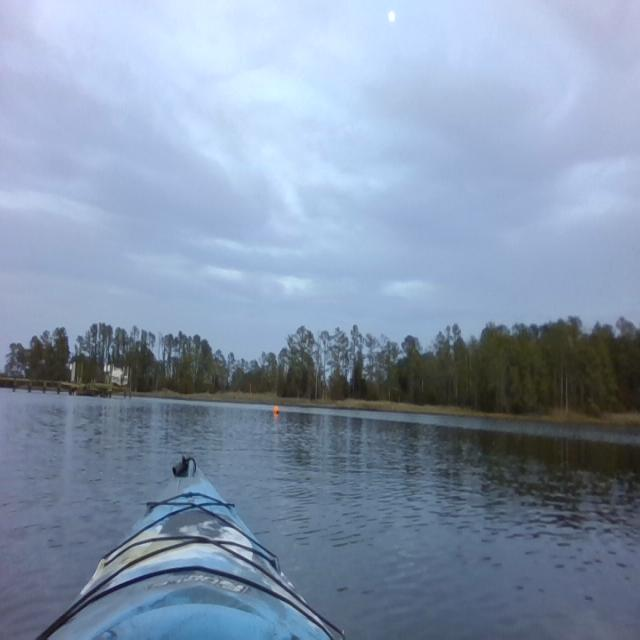Buoy: (273, 404, 280, 416)
